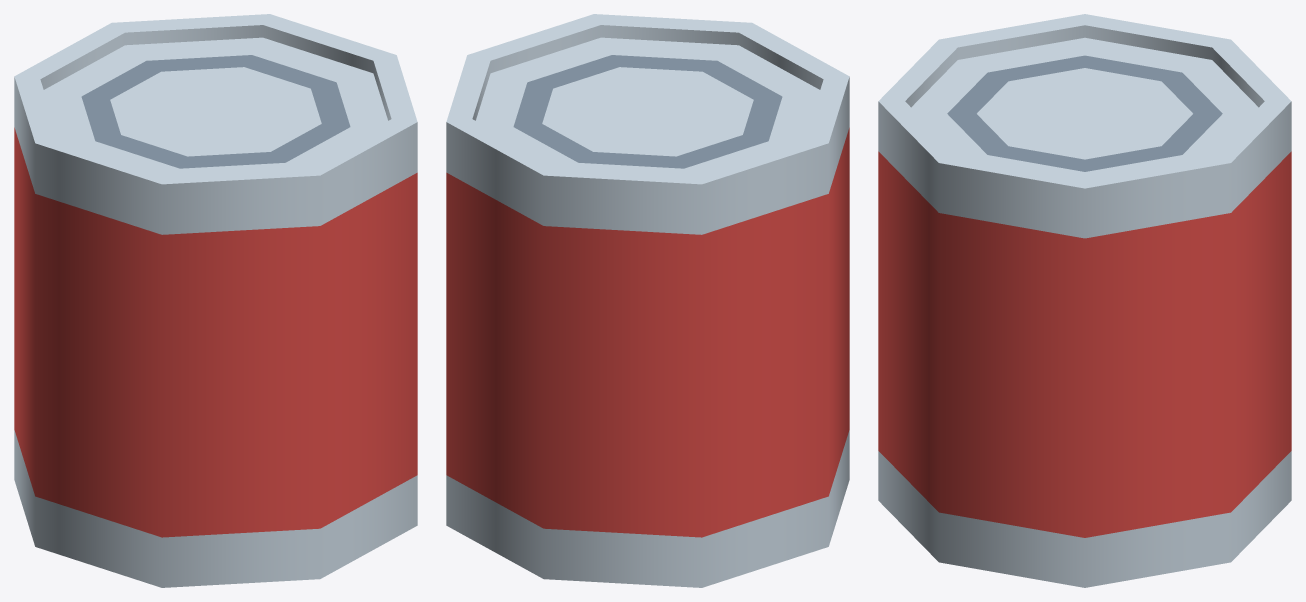
Rendered from Can.glb.
The picture shows the model from 3 angles, left to right: view 1: azimuth 30°, elevation 25°; view 2: azimuth 150°, elevation 25°; view 3: azimuth 270°, elevation 25°; orthographic projection.
Visible parts, largest first — view 1: Can; view 2: Can; view 3: Can.
Boxes of the visible parts, box(x1,y1,x2,y2) form: Can: box(14, 14, 417, 587); Can: box(446, 14, 849, 587); Can: box(878, 14, 1291, 587).
Bounding box in the file's own units: 0.132 × 0.1408 × 0.132.
